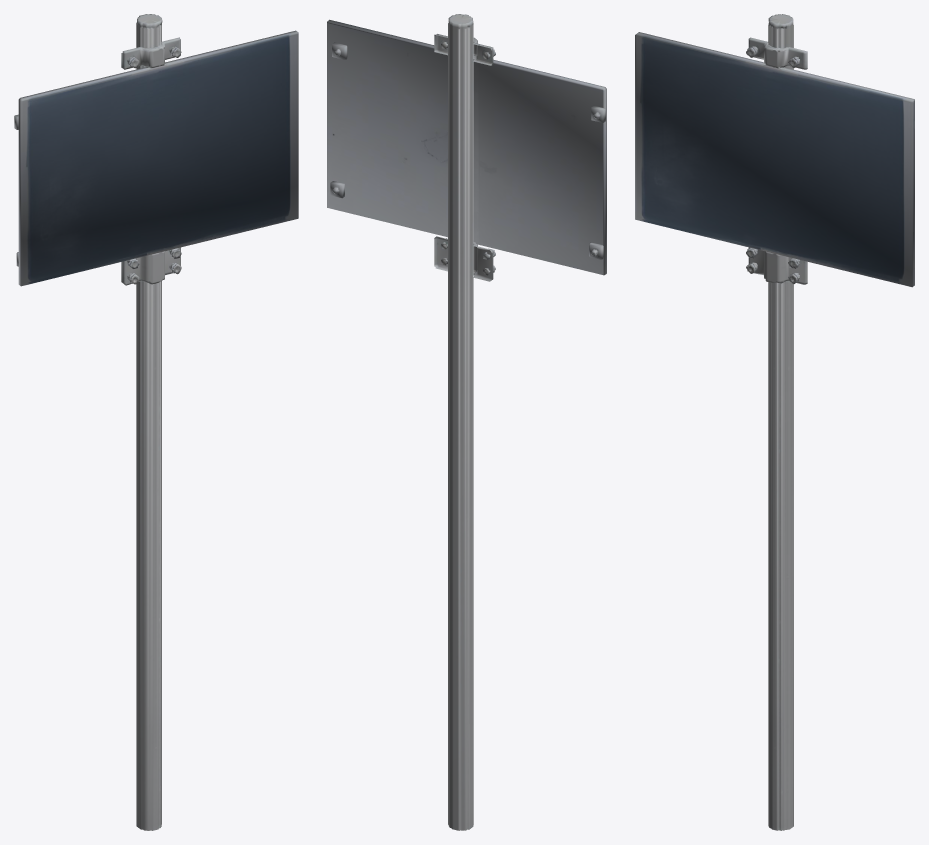
Rendered from original_glb.glb.
The picture shows the model from 3 angles, left to right: view 1: azimuth 30°, elevation 25°; view 2: azimuth 150°, elevation 25°; view 3: azimuth 330°, elevation 25°; orthographic projection.
Parts seen in each view (by area): view 1: blank road sign; view 2: blank road sign; view 3: blank road sign.
Boxes of the visible parts, box(x1,y1,x2,y2) form: blank road sign: box(14, 14, 298, 830); blank road sign: box(327, 14, 606, 830); blank road sign: box(635, 14, 914, 830).
Size of the model in its own units: 0.3613 by 0.998 by 0.0332.
1 material, 1 textured.
